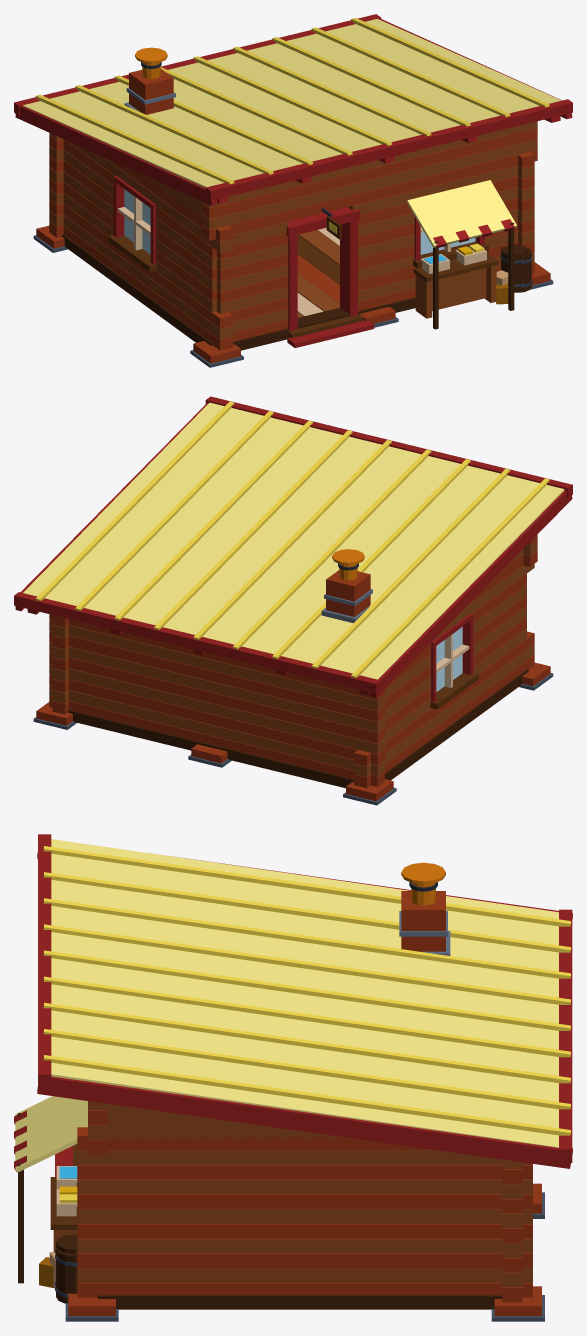
Rendered from food_shop.fbx.
The picture shows the model from 3 angles, top to bottom: view 1: azimuth 30°, elevation 25°; view 2: azimuth 150°, elevation 25°; view 3: azimuth 270°, elevation 25°; orthographic projection. The views are drawn at different scales.
Visible parts, largest first — view 1: FoodShop_SinglePitchRoof, FoodShop_TimberWalls, FoodShop_ThematicProps, FoodShop_Foundation, FoodShop_DoorFrame, FoodShop_Windows, FoodShop_PlankFloor, FoodShop_Chimney; view 2: FoodShop_SinglePitchRoof, FoodShop_TimberWalls, FoodShop_Foundation, FoodShop_Windows, FoodShop_Chimney; view 3: FoodShop_SinglePitchRoof, FoodShop_TimberWalls, FoodShop_Foundation, FoodShop_ThematicProps, FoodShop_Chimney.
Boxes of the visible parts, x1=… form: FoodShop_SinglePitchRoof: x1=14, y1=14, x2=572, y2=205; FoodShop_TimberWalls: x1=49, y1=121, x2=537, y2=350; FoodShop_ThematicProps: x1=321, y1=180, x2=532, y2=329; FoodShop_Foundation: x1=33, y1=225, x2=553, y2=367; FoodShop_DoorFrame: x1=286, y1=207, x2=374, y2=347; FoodShop_Windows: x1=108, y1=176, x2=488, y2=271; FoodShop_PlankFloor: x1=297, y1=227, x2=339, y2=317; FoodShop_Chimney: x1=124, y1=47, x2=175, y2=114; FoodShop_SinglePitchRoof: x1=14, y1=396, x2=572, y2=697; FoodShop_TimberWalls: x1=49, y1=534, x2=537, y2=788; FoodShop_Foundation: x1=33, y1=662, x2=553, y2=805; FoodShop_Windows: x1=430, y1=613, x2=478, y2=709; FoodShop_Chimney: x1=321, y1=549, x2=372, y2=623; FoodShop_SinglePitchRoof: x1=37, y1=834, x2=572, y2=1168; FoodShop_TimberWalls: x1=77, y1=1101, x2=532, y2=1302; FoodShop_Foundation: x1=65, y1=1183, x2=544, y2=1321; FoodShop_ThematicProps: x1=14, y1=1096, x2=87, y2=1303; FoodShop_Chimney: x1=399, y1=862, x2=450, y2=955.
Size of the model in its own units: 19.2 by 10.08 by 18.89.
